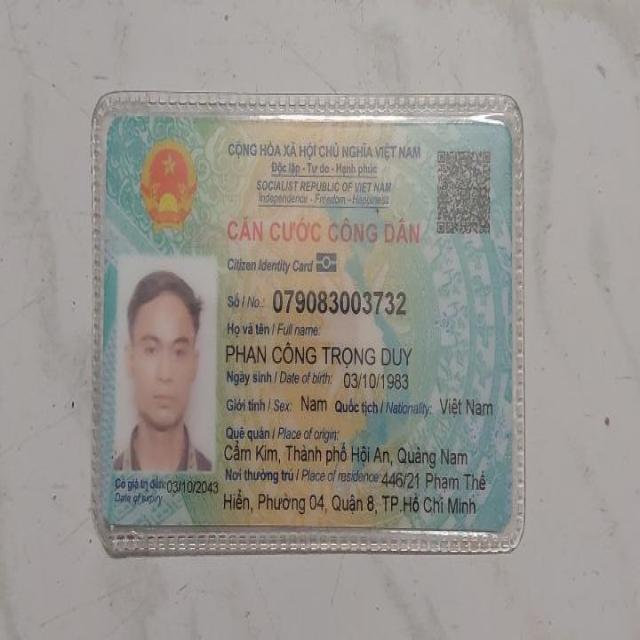bottom_left: (92, 494, 132, 539)
bottom_right: (482, 504, 526, 547)
image_person: (117, 259, 227, 475)
top_left: (93, 104, 136, 152)
top_right: (481, 104, 524, 144)
